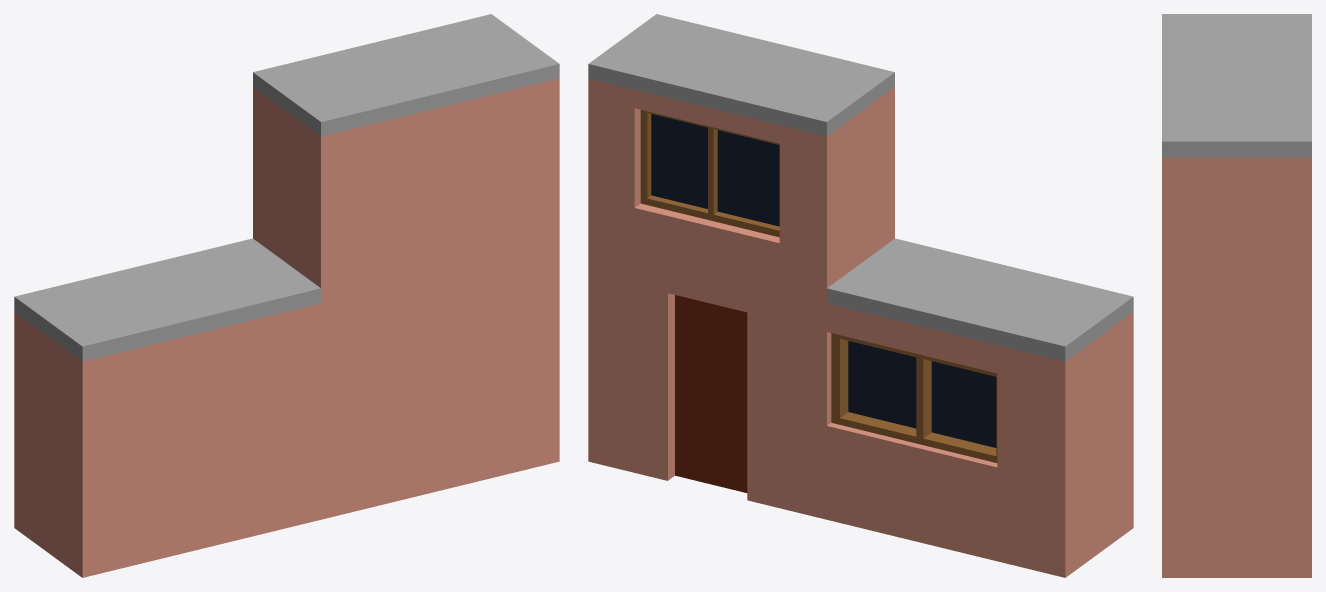
Rendered from house_5.fbx.
3 views of the same model, side by side, from view 1: azimuth 30°, elevation 25°; view 2: azimuth 150°, elevation 25°; view 3: azimuth 270°, elevation 25° (orthographic). The views are drawn at different scales.
Visible parts, largest first — view 1: Cubo; view 2: Cubo; view 3: Cubo.
Part boxes in pixels (x1=…): Cubo: x1=14, y1=14, x2=559, y2=577; Cubo: x1=588, y1=14, x2=1133, y2=577; Cubo: x1=1162, y1=14, x2=1311, y2=577.
Bounding box in the file's own units: 5121 × 1269 × 4078.
